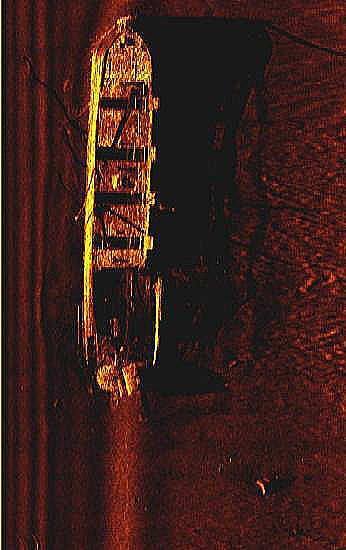ship: (75, 14, 165, 410)
